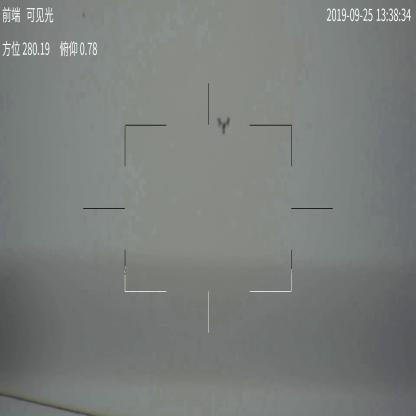uav: (216, 114, 232, 138)
